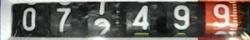digits: (172, 4, 190, 29), (212, 3, 230, 27), (131, 5, 149, 29), (93, 17, 111, 38), (56, 6, 70, 32), (22, 7, 36, 30)
